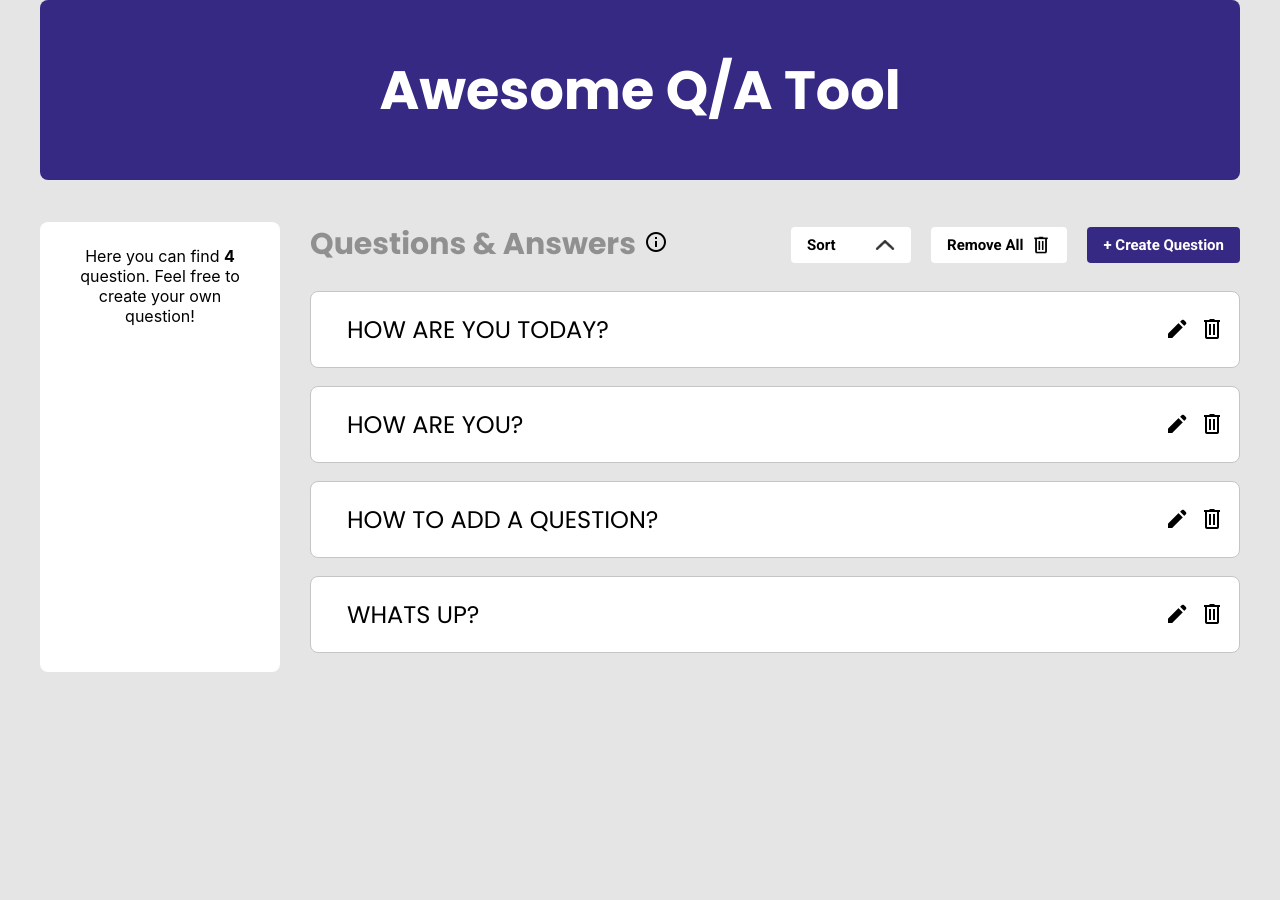
Test: Question Answers › delete button works as expected
Expected: the heading "How are you today?" is shown, [347,312,1203,347]
Click the picture with test id "delete-icon" in the row of "How are you today?" at x=1212, y=329, box [1200,317,1224,341]
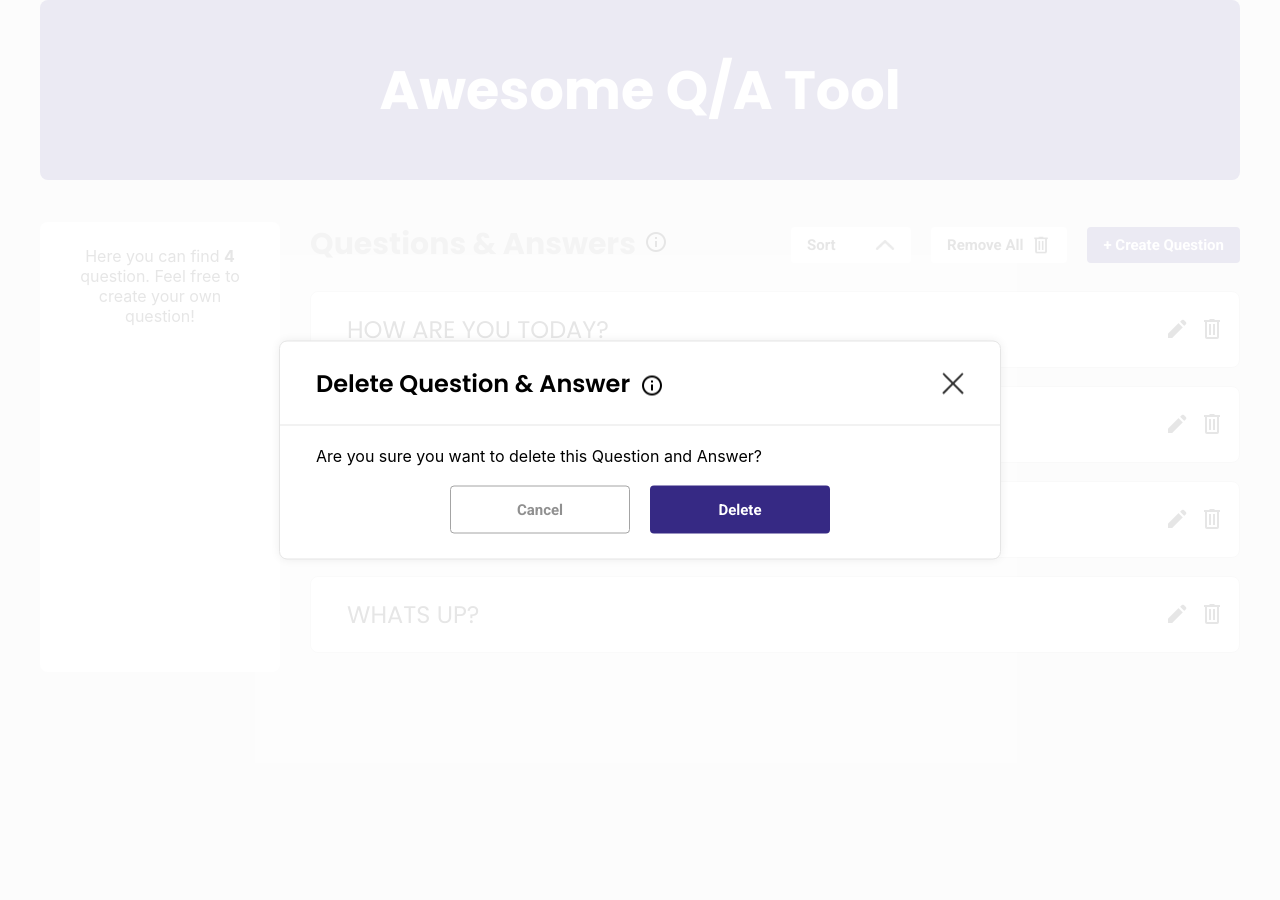
Result: the heading "Delete Question & Answer" is shown at [316,366,664,400]
Click the button "Delete" at x=740, y=510, box [650,486,830,534]
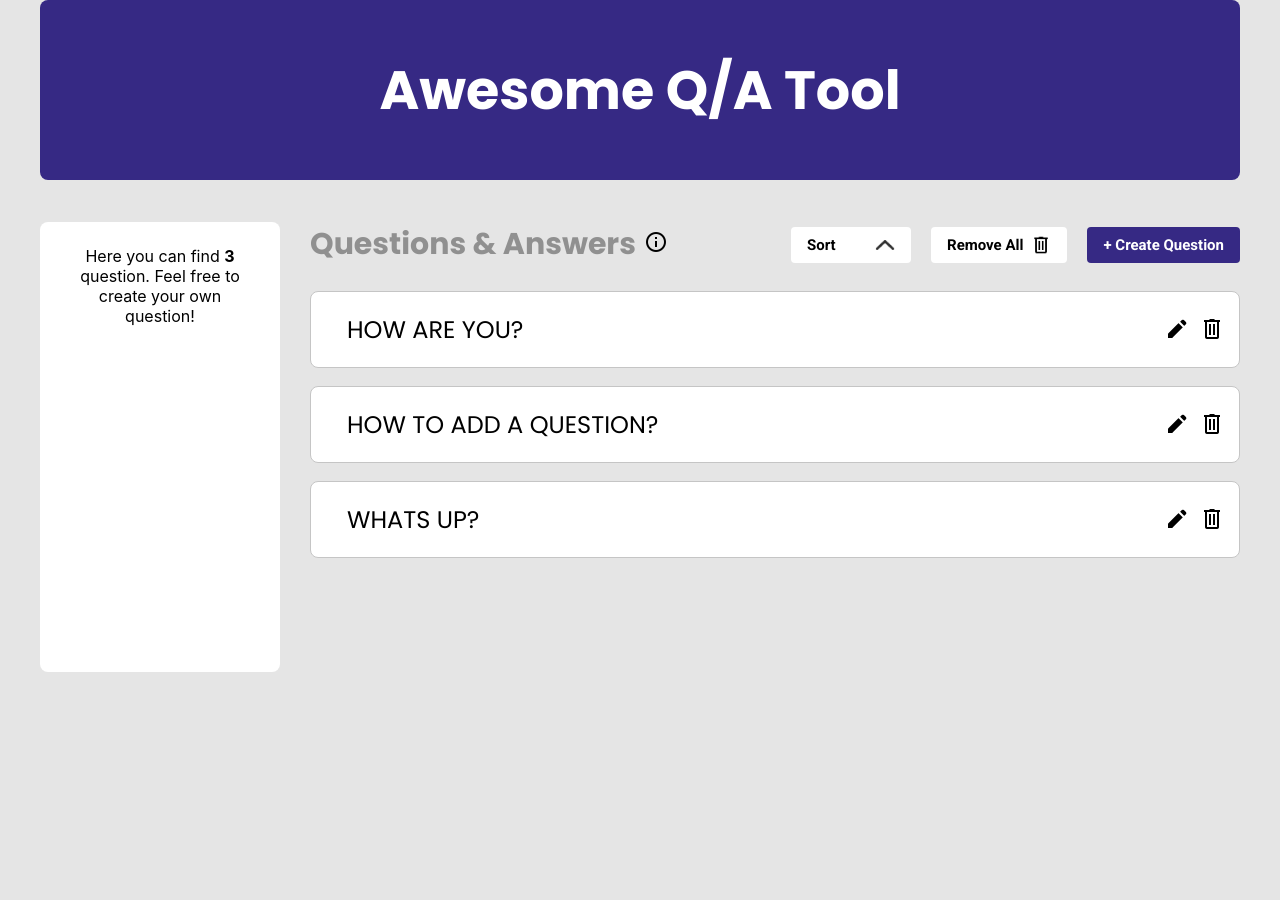
Result: the heading "Delete Question & Answer" is gone
Result: the heading "How are you today?" is gone
